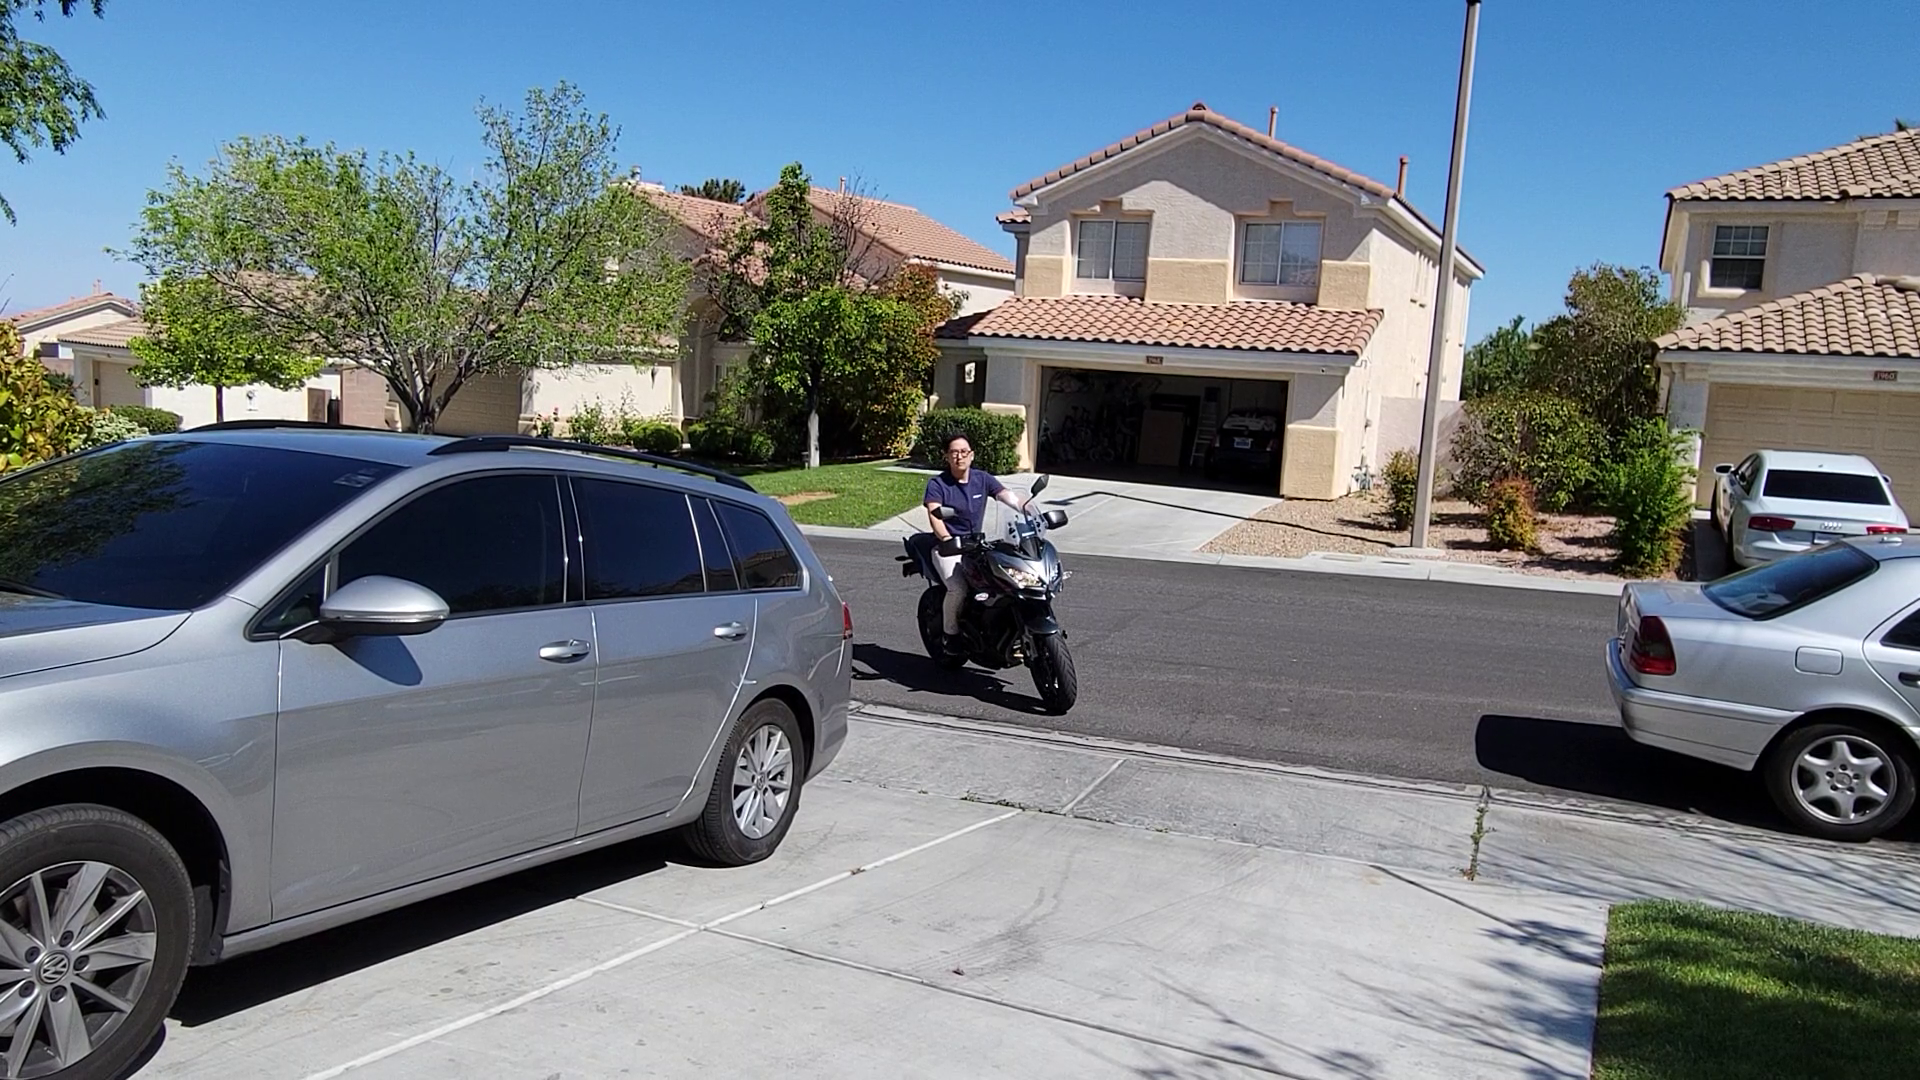my bike: (887, 425, 1083, 717)
